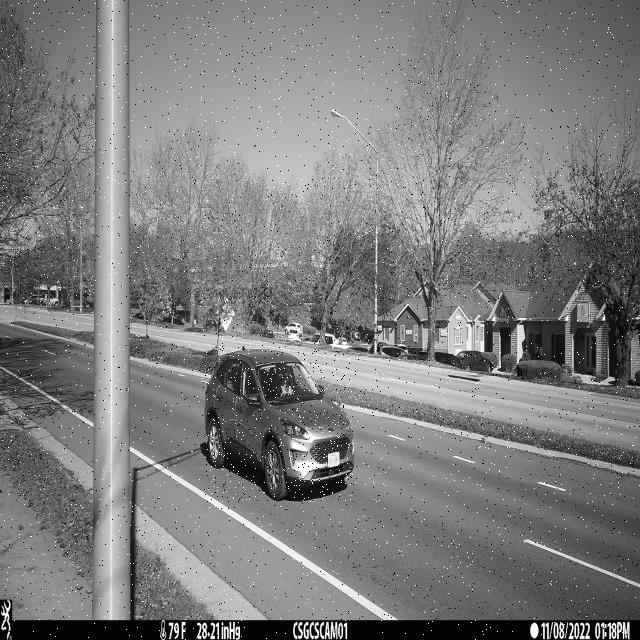SUV: (205, 346, 354, 502)
